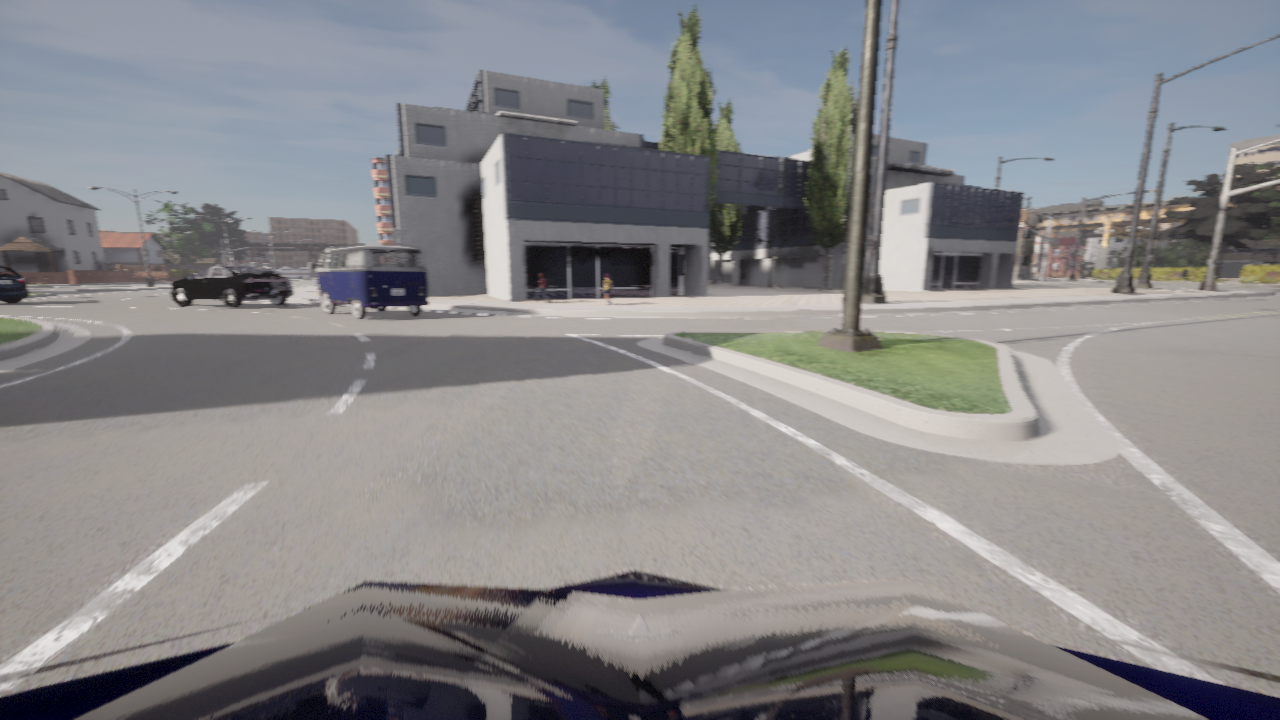cyclist: (0, 569, 1279, 719), (312, 244, 429, 320), (170, 266, 292, 308)
pedestrian: (534, 273, 550, 302), (602, 274, 612, 305)
